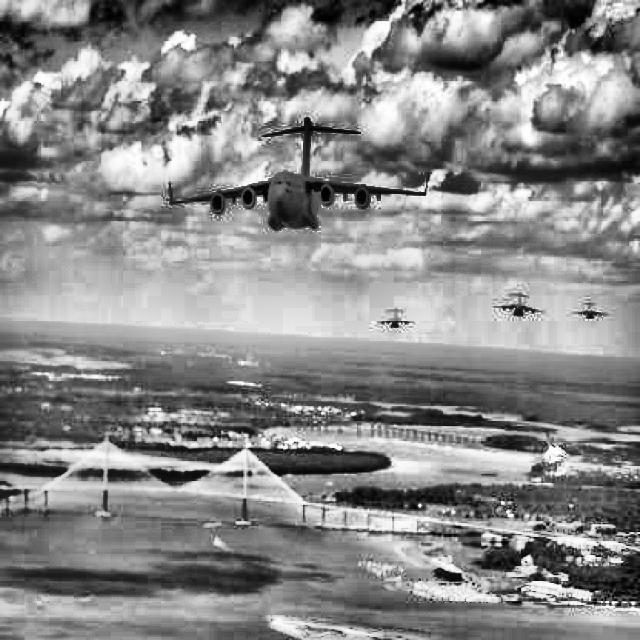C17: (168, 117, 430, 232), (491, 292, 546, 317), (373, 308, 418, 328), (572, 302, 608, 320)
